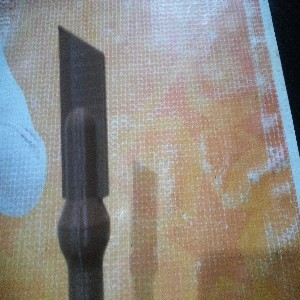cutter: (56, 23, 112, 300)
